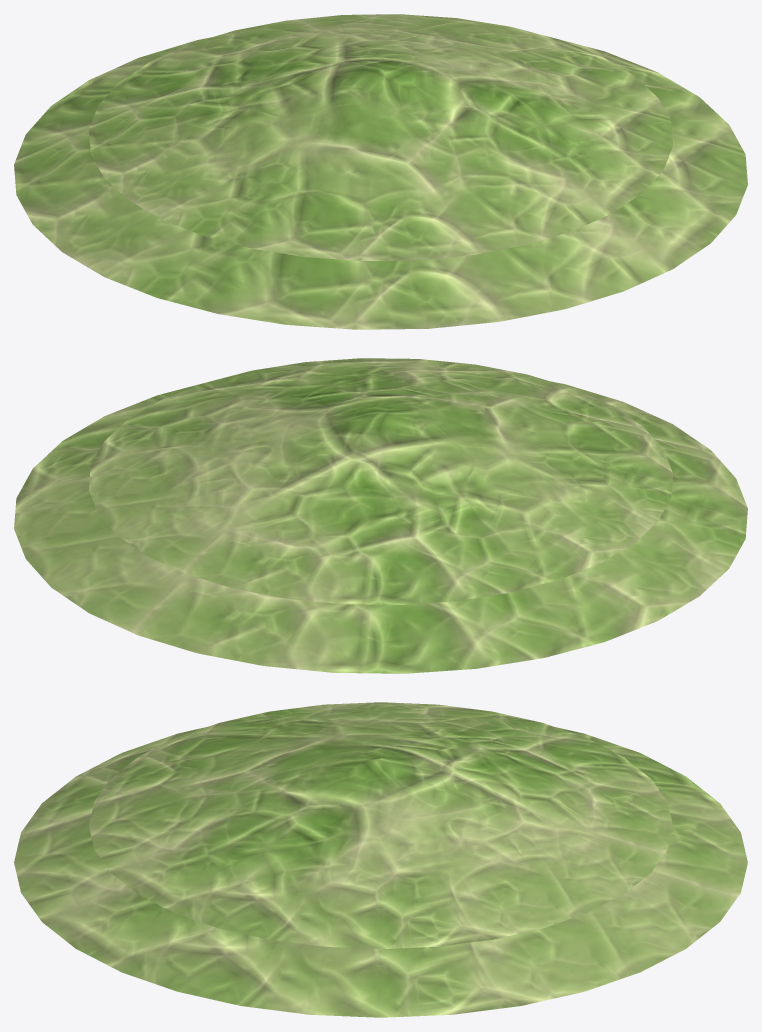
The model's file is lechuga_cortada.obj.
3 renders of one model, top to bottom at view 1: azimuth 30°, elevation 25°; view 2: azimuth 150°, elevation 25°; view 3: azimuth 270°, elevation 25°, orthographic.
Size of the model in its own units: 2 by 0.3137 by 2.
Materials: 2 (2 with a texture image).
